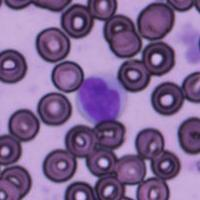M: (76, 72, 128, 123)
